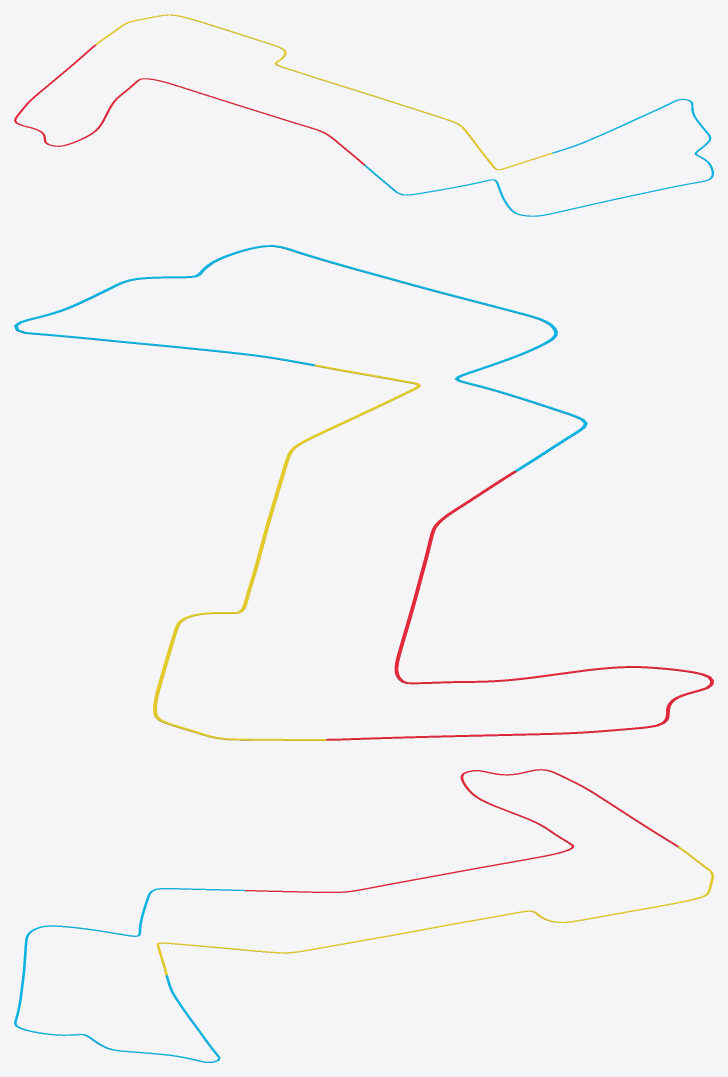
Rendered from SingaporeSectors.glb.
The picture shows the model from 3 angles, top to bottom: view 1: azimuth 30°, elevation 25°; view 2: azimuth 150°, elevation 25°; view 3: azimuth 270°, elevation 25°; orthographic projection. The views are drawn at different scales.
Parts seen in each view (by area): view 1: SectorStrip_2, SectorStrip_1, SectorStrip_3; view 2: SectorStrip_2, SectorStrip_1, SectorStrip_3; view 3: SectorStrip_2, SectorStrip_1, SectorStrip_3.
Part boxes in pixels (x1,y1,x2,y2): SectorStrip_2: (364, 98, 713, 216); SectorStrip_1: (14, 44, 365, 165); SectorStrip_3: (95, 14, 552, 170); SectorStrip_2: (14, 245, 587, 471); SectorStrip_1: (326, 471, 713, 740); SectorStrip_3: (153, 364, 420, 740); SectorStrip_2: (14, 888, 245, 1062); SectorStrip_1: (245, 769, 678, 892); SectorStrip_3: (156, 846, 713, 975).
Size of the model in its own units: 16.19 by 0.006 by 16.31.
